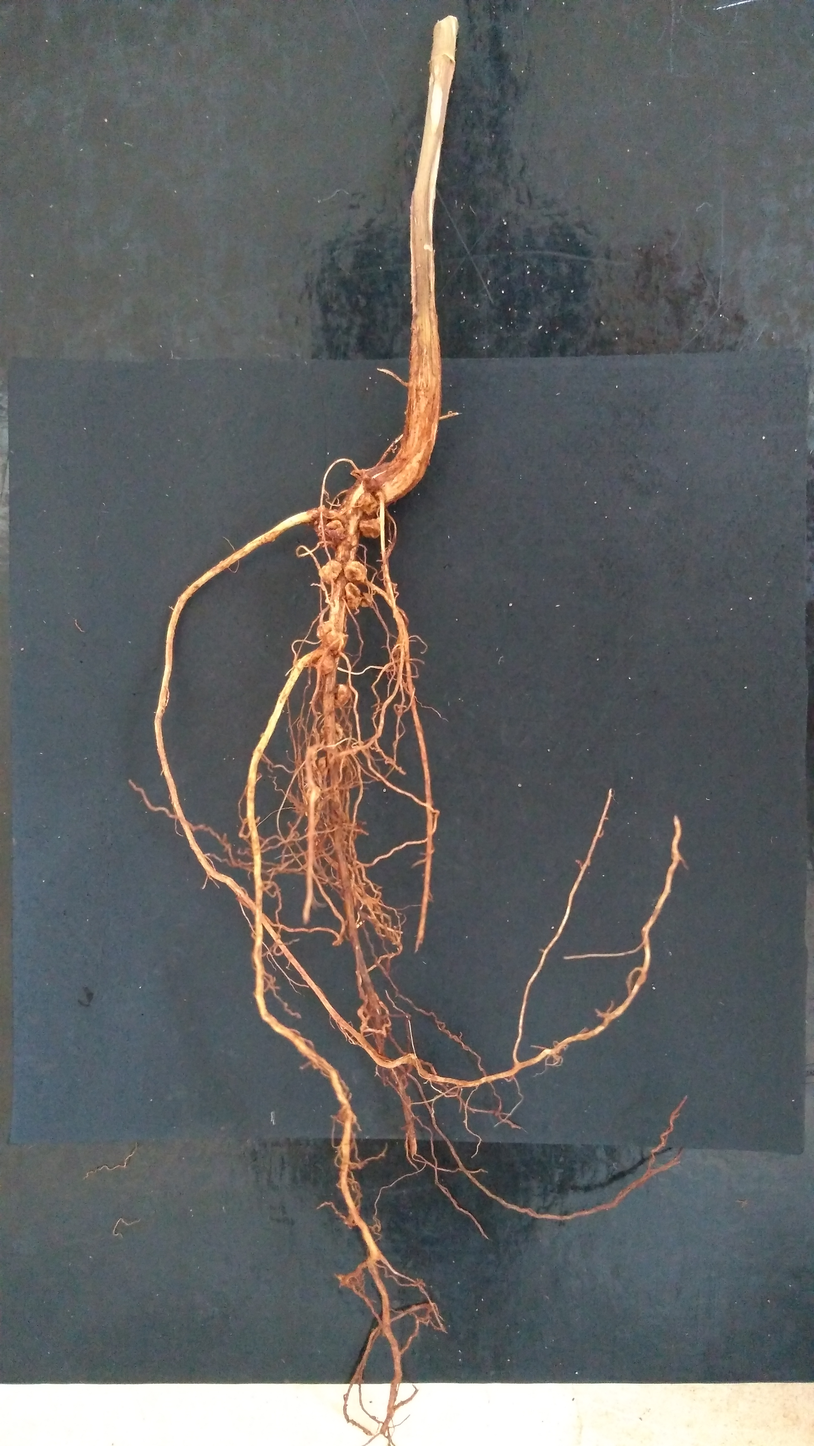nodule: (317, 620, 347, 649), (318, 683, 352, 708), (312, 515, 336, 548), (311, 646, 337, 676), (318, 559, 343, 585), (343, 559, 368, 584), (357, 492, 379, 514), (319, 755, 347, 772), (359, 519, 384, 538), (344, 582, 361, 609), (320, 722, 344, 741), (392, 605, 409, 631), (324, 519, 346, 539), (333, 544, 351, 562), (362, 475, 379, 493), (306, 782, 321, 801), (360, 592, 372, 608), (346, 534, 358, 548), (317, 504, 325, 512)
